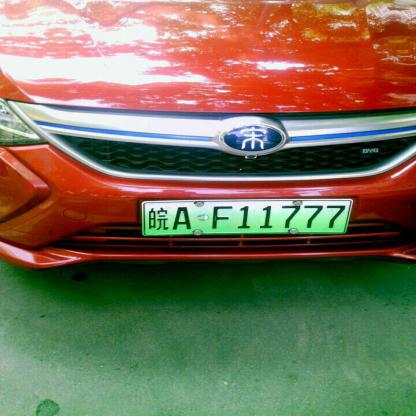lp: (144, 200, 352, 235)
